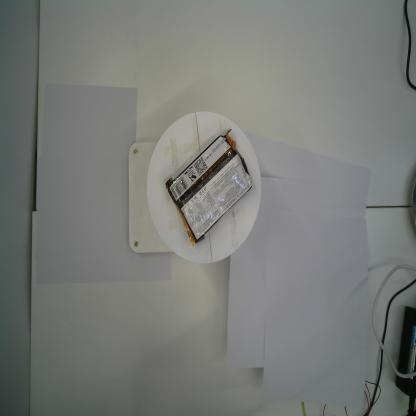Dessert: (165, 126, 257, 249)
